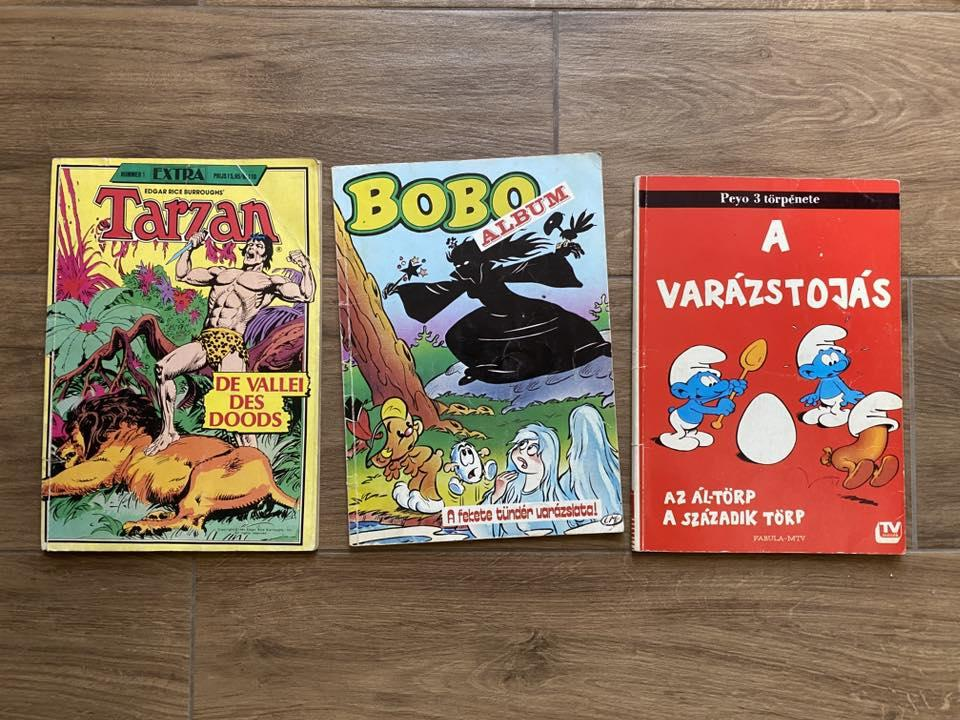comic: (331, 153, 623, 545), (42, 159, 320, 549), (632, 177, 907, 553)
